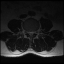CCS_normal: (30, 29, 32, 37)
LFS_normal: (34, 29, 36, 35)
LLS_normal: (31, 29, 33, 36)
RFS_normal: (26, 29, 28, 35)
RLS_normal: (28, 29, 30, 36)
